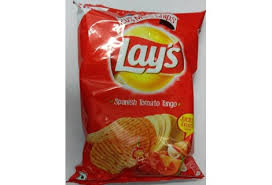lays-med: (78, 3, 205, 181)
